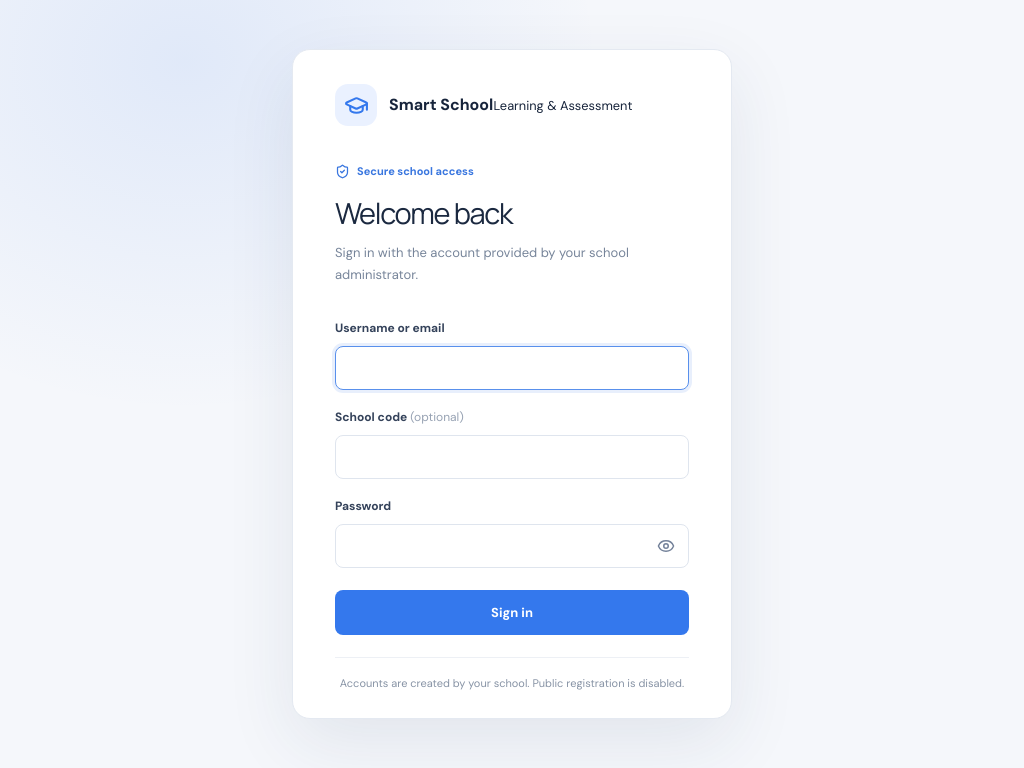
Test: authentication flow › validates credentials and reports rejected logins
The image size is (1024, 768).
Click the button "Sign in" at (512, 613), box top-left (335, 590), bottom-right (689, 635)
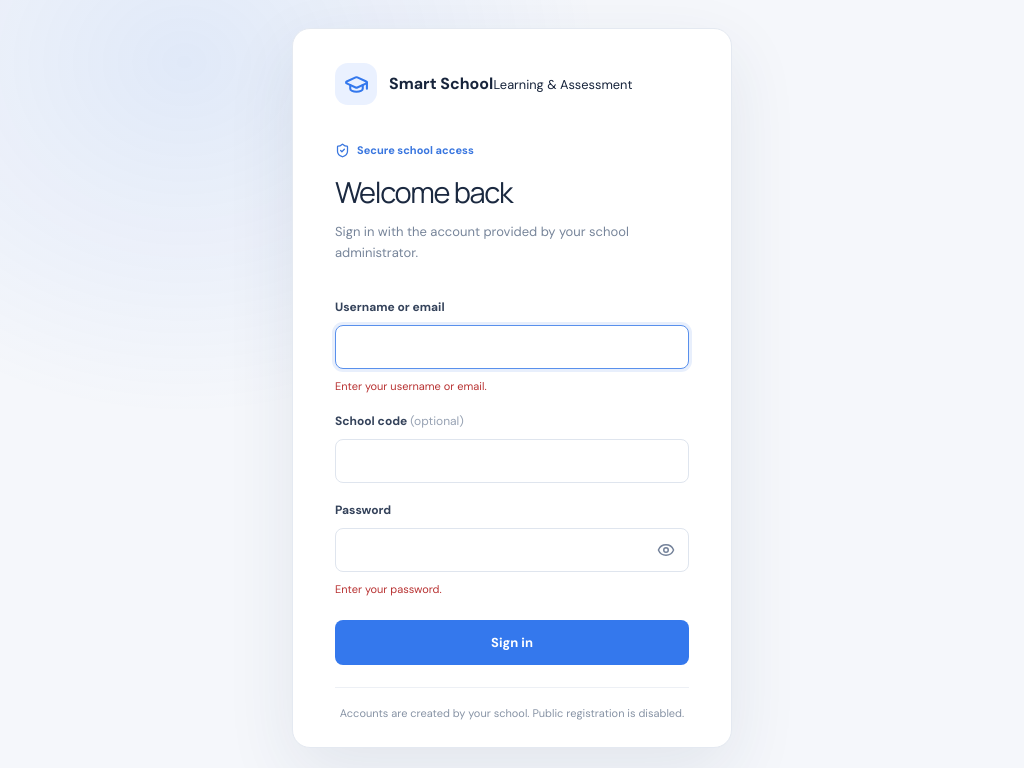
Result: the text "Enter your username or email." is shown at top-left (335, 379), bottom-right (487, 393)
Type "unknown" into the field labelled "Username or email" at (512, 347), box top-left (335, 325), bottom-right (689, 369)
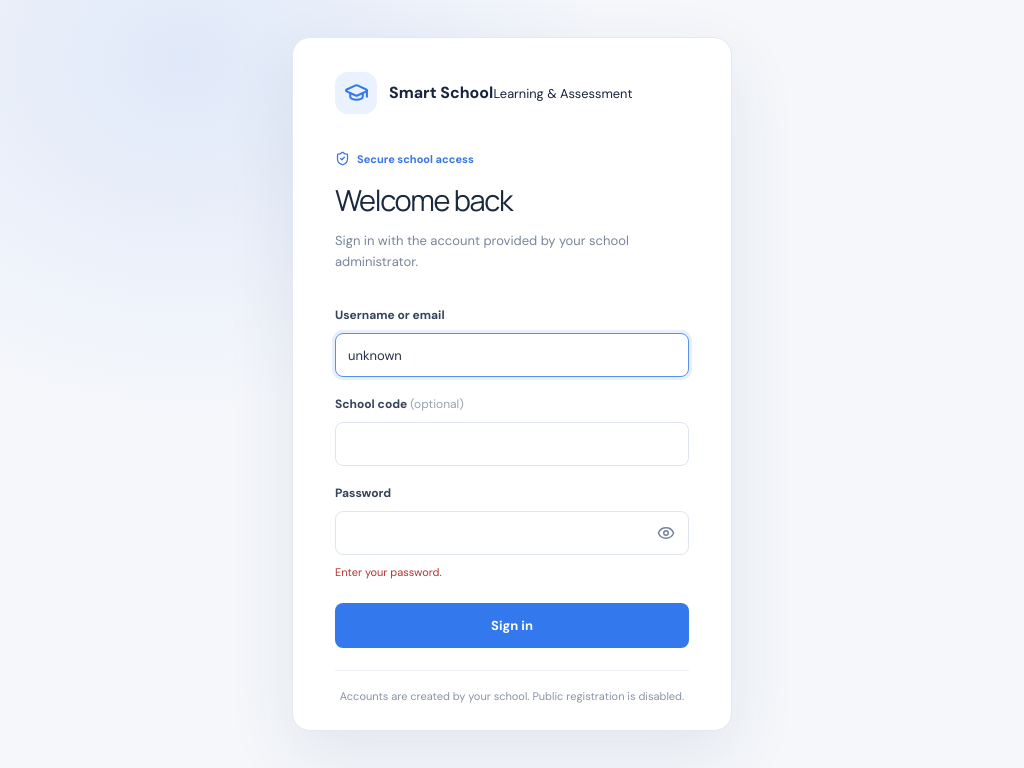
Type "incorrect" into the password field labelled "Password" at (512, 533), box top-left (335, 511), bottom-right (689, 555)
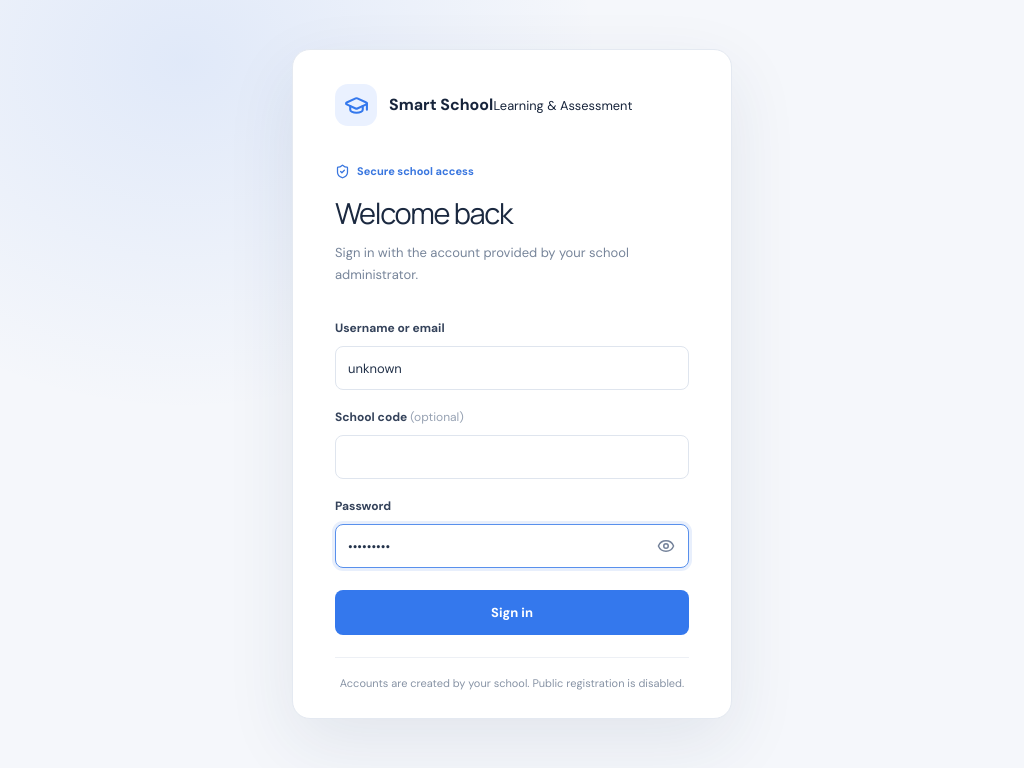
Click the button "Sign in" at (512, 613), box top-left (335, 590), bottom-right (689, 635)
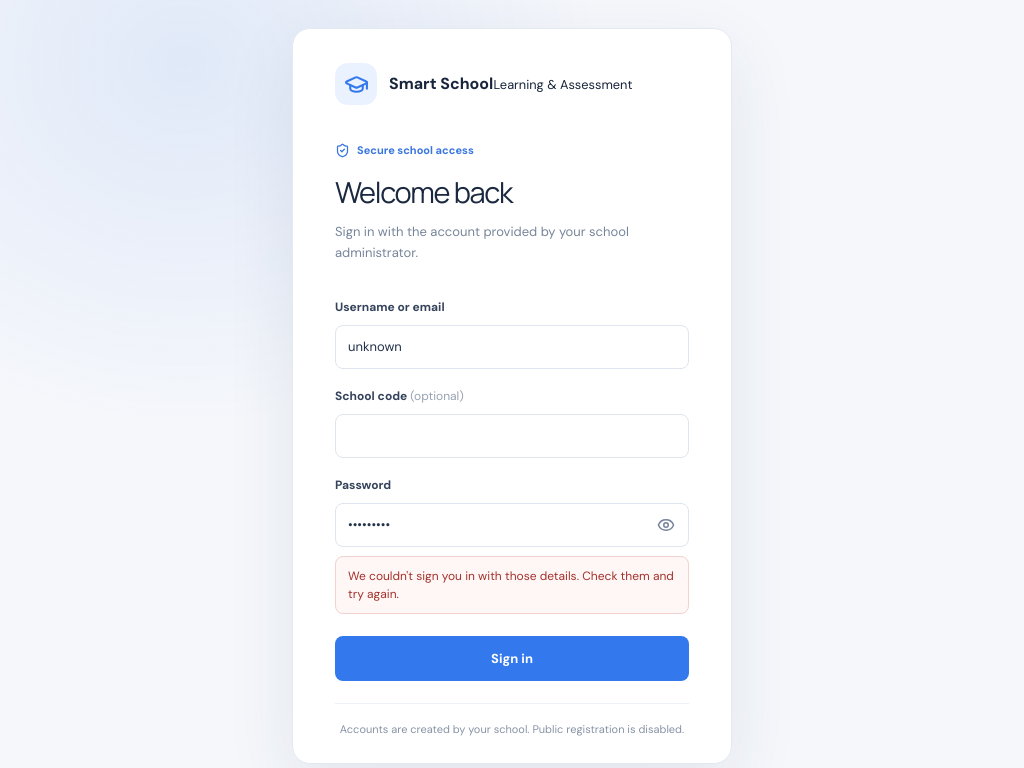
Result: the message reads "We couldn't sign you in with those details. Check them and try again." at top-left (348, 568), bottom-right (674, 602)
